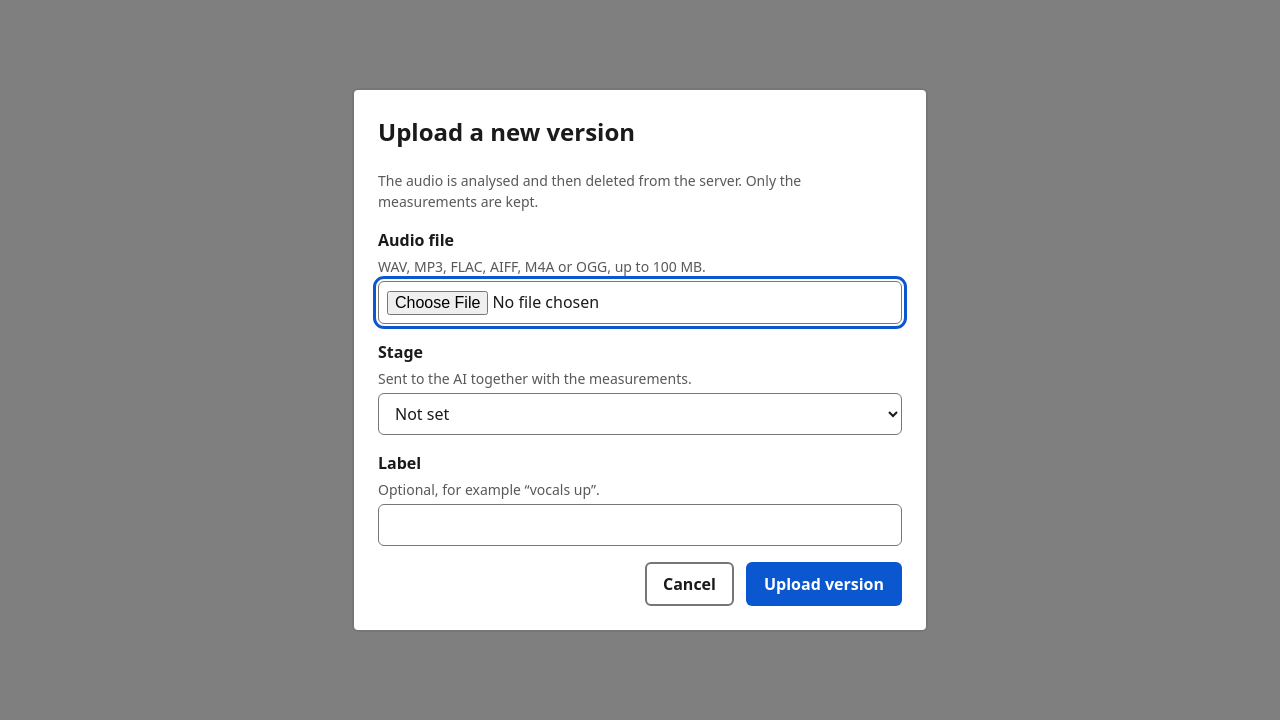
Test: refused uploads › shows an alert for 413 payload_too_large and stays open
Earlier steps of the test are not shown.
Step 1. Click the button "Upload version" → coordinates (824, 584), box [746,562,902,606]
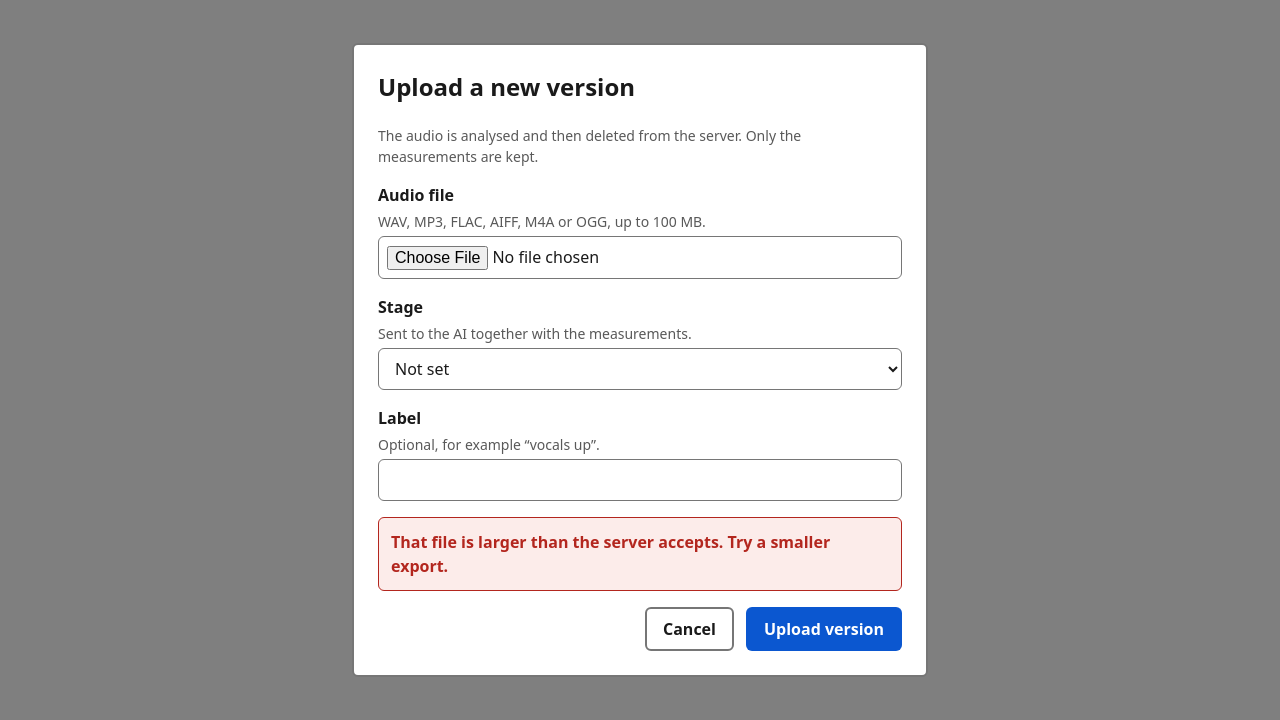
Expected: the button "Upload version" is enabled, [746,607,902,651]
Expected: the message reads "That file is larger than the server accepts. Try a smaller export.", [391,531,830,577]
